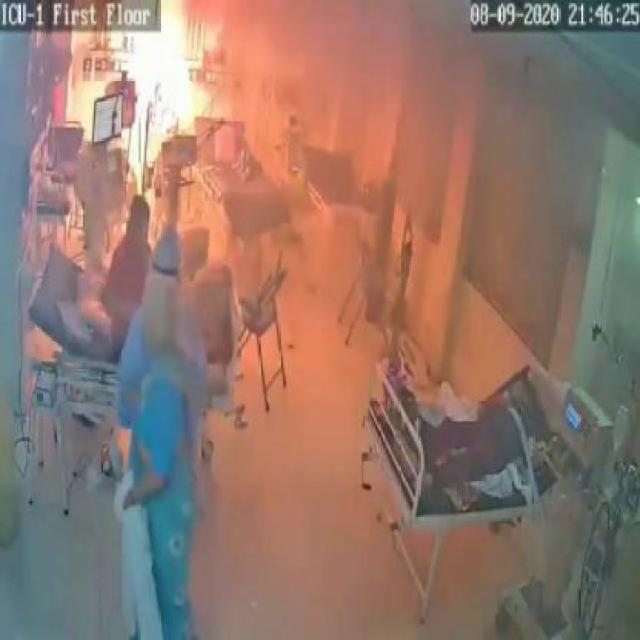fire: (104, 4, 204, 153)
smoke: (276, 2, 593, 232)
